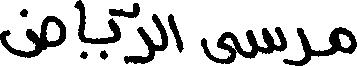X: (0, 4, 65, 62), (127, 0, 153, 65), (247, 22, 286, 65), (201, 27, 238, 65), (288, 23, 309, 65), (169, 9, 183, 57), (340, 22, 356, 58), (155, 9, 166, 55), (109, 4, 119, 47), (79, 0, 85, 65)
